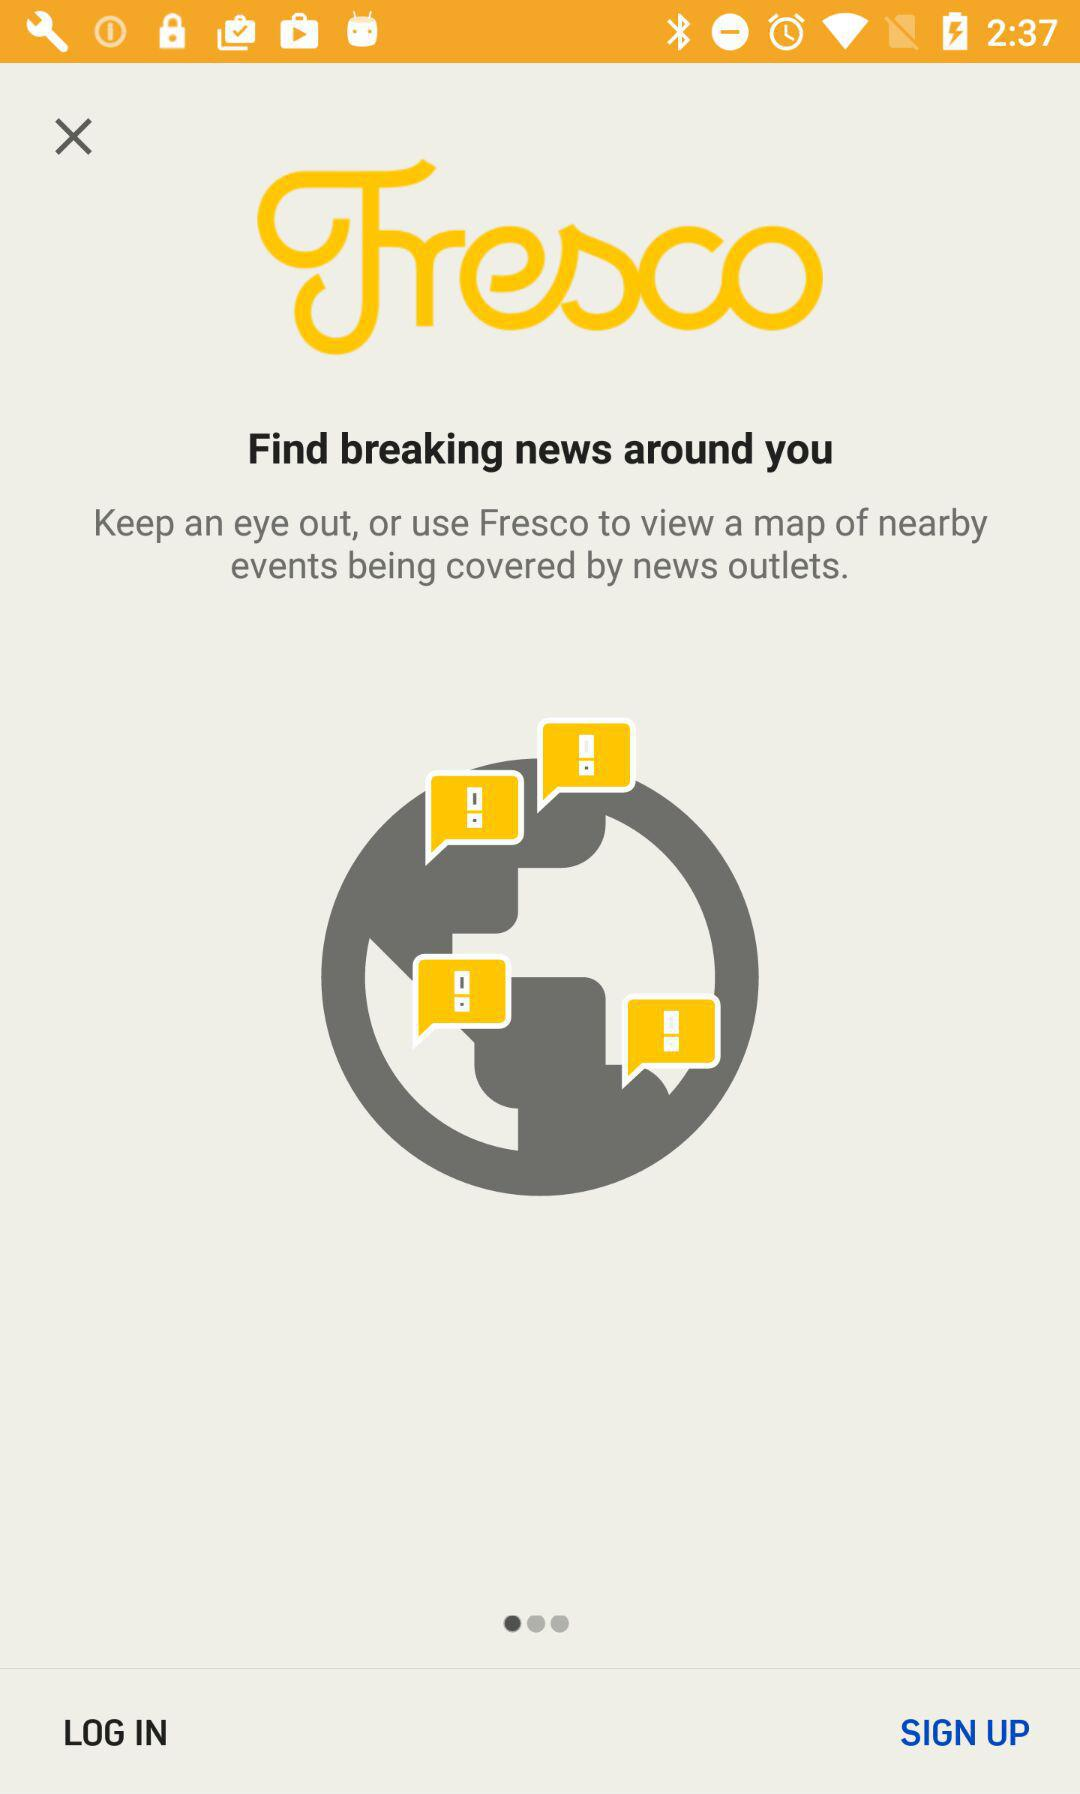Icon: (54, 117, 94, 158)
Image: (316, 716, 761, 1197), (258, 160, 825, 358)
PageIndicator: (503, 1615, 571, 1634)
Text: (95, 506, 989, 589), (249, 431, 834, 475), (899, 1717, 1030, 1747), (65, 1718, 168, 1748)
UpperTaskBar: (1, 1, 1080, 64)
